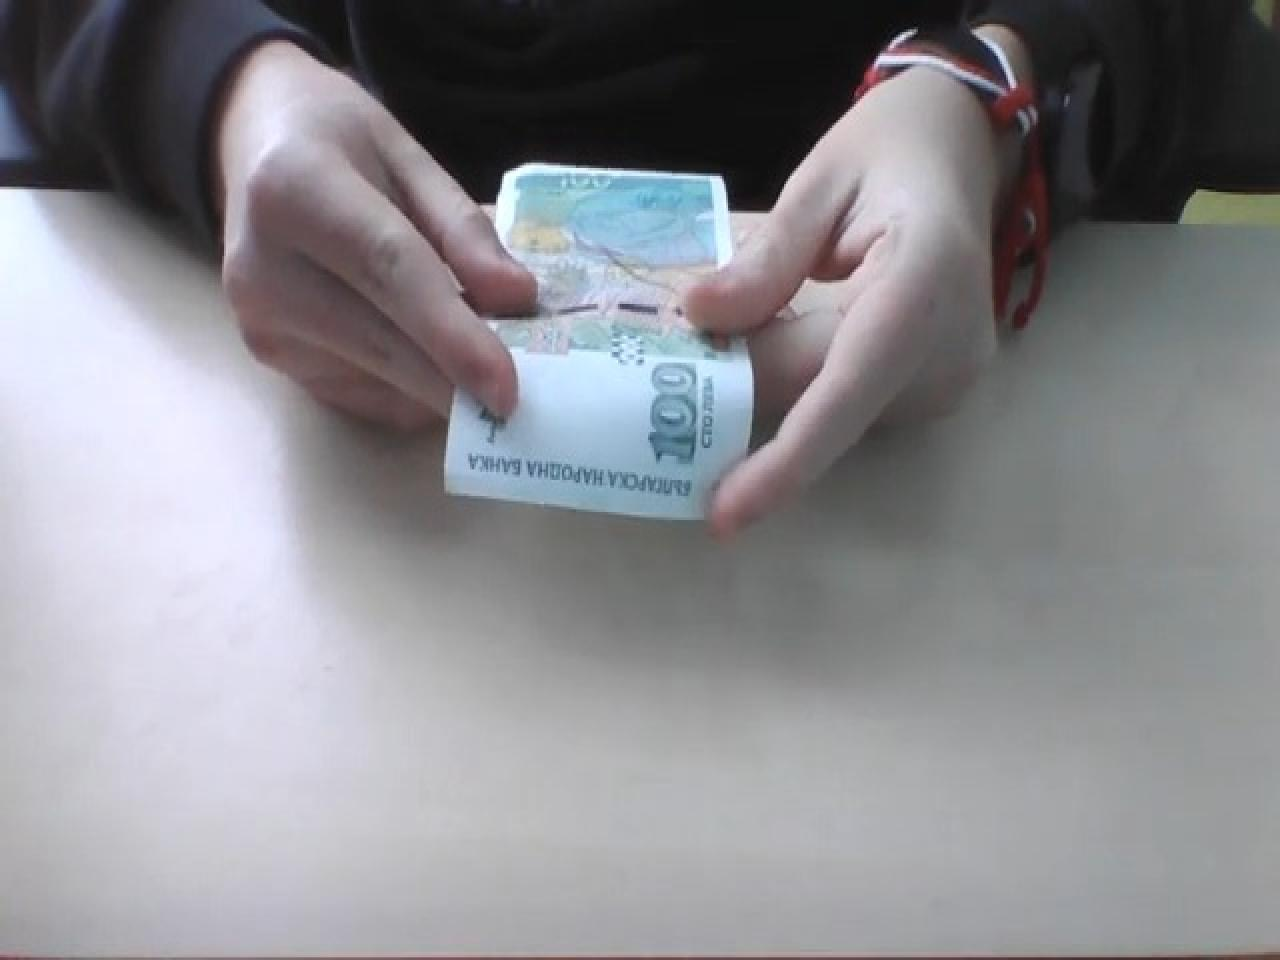100leva: (440, 160, 756, 522)
